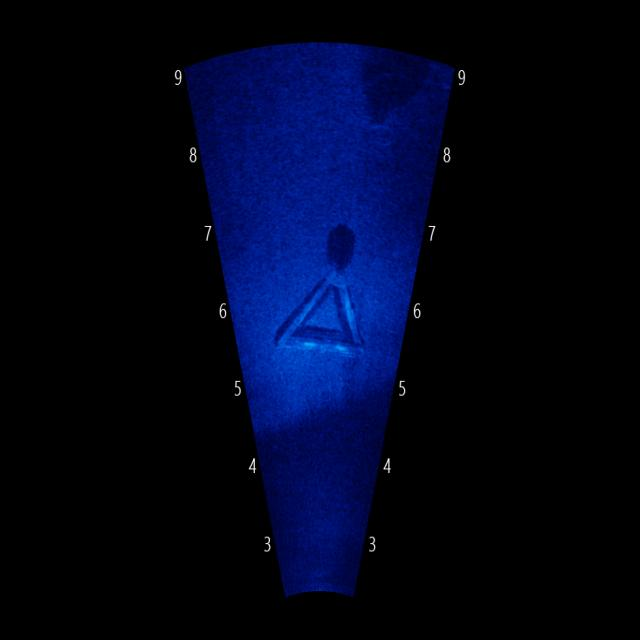triangle: (270, 250, 374, 373)
